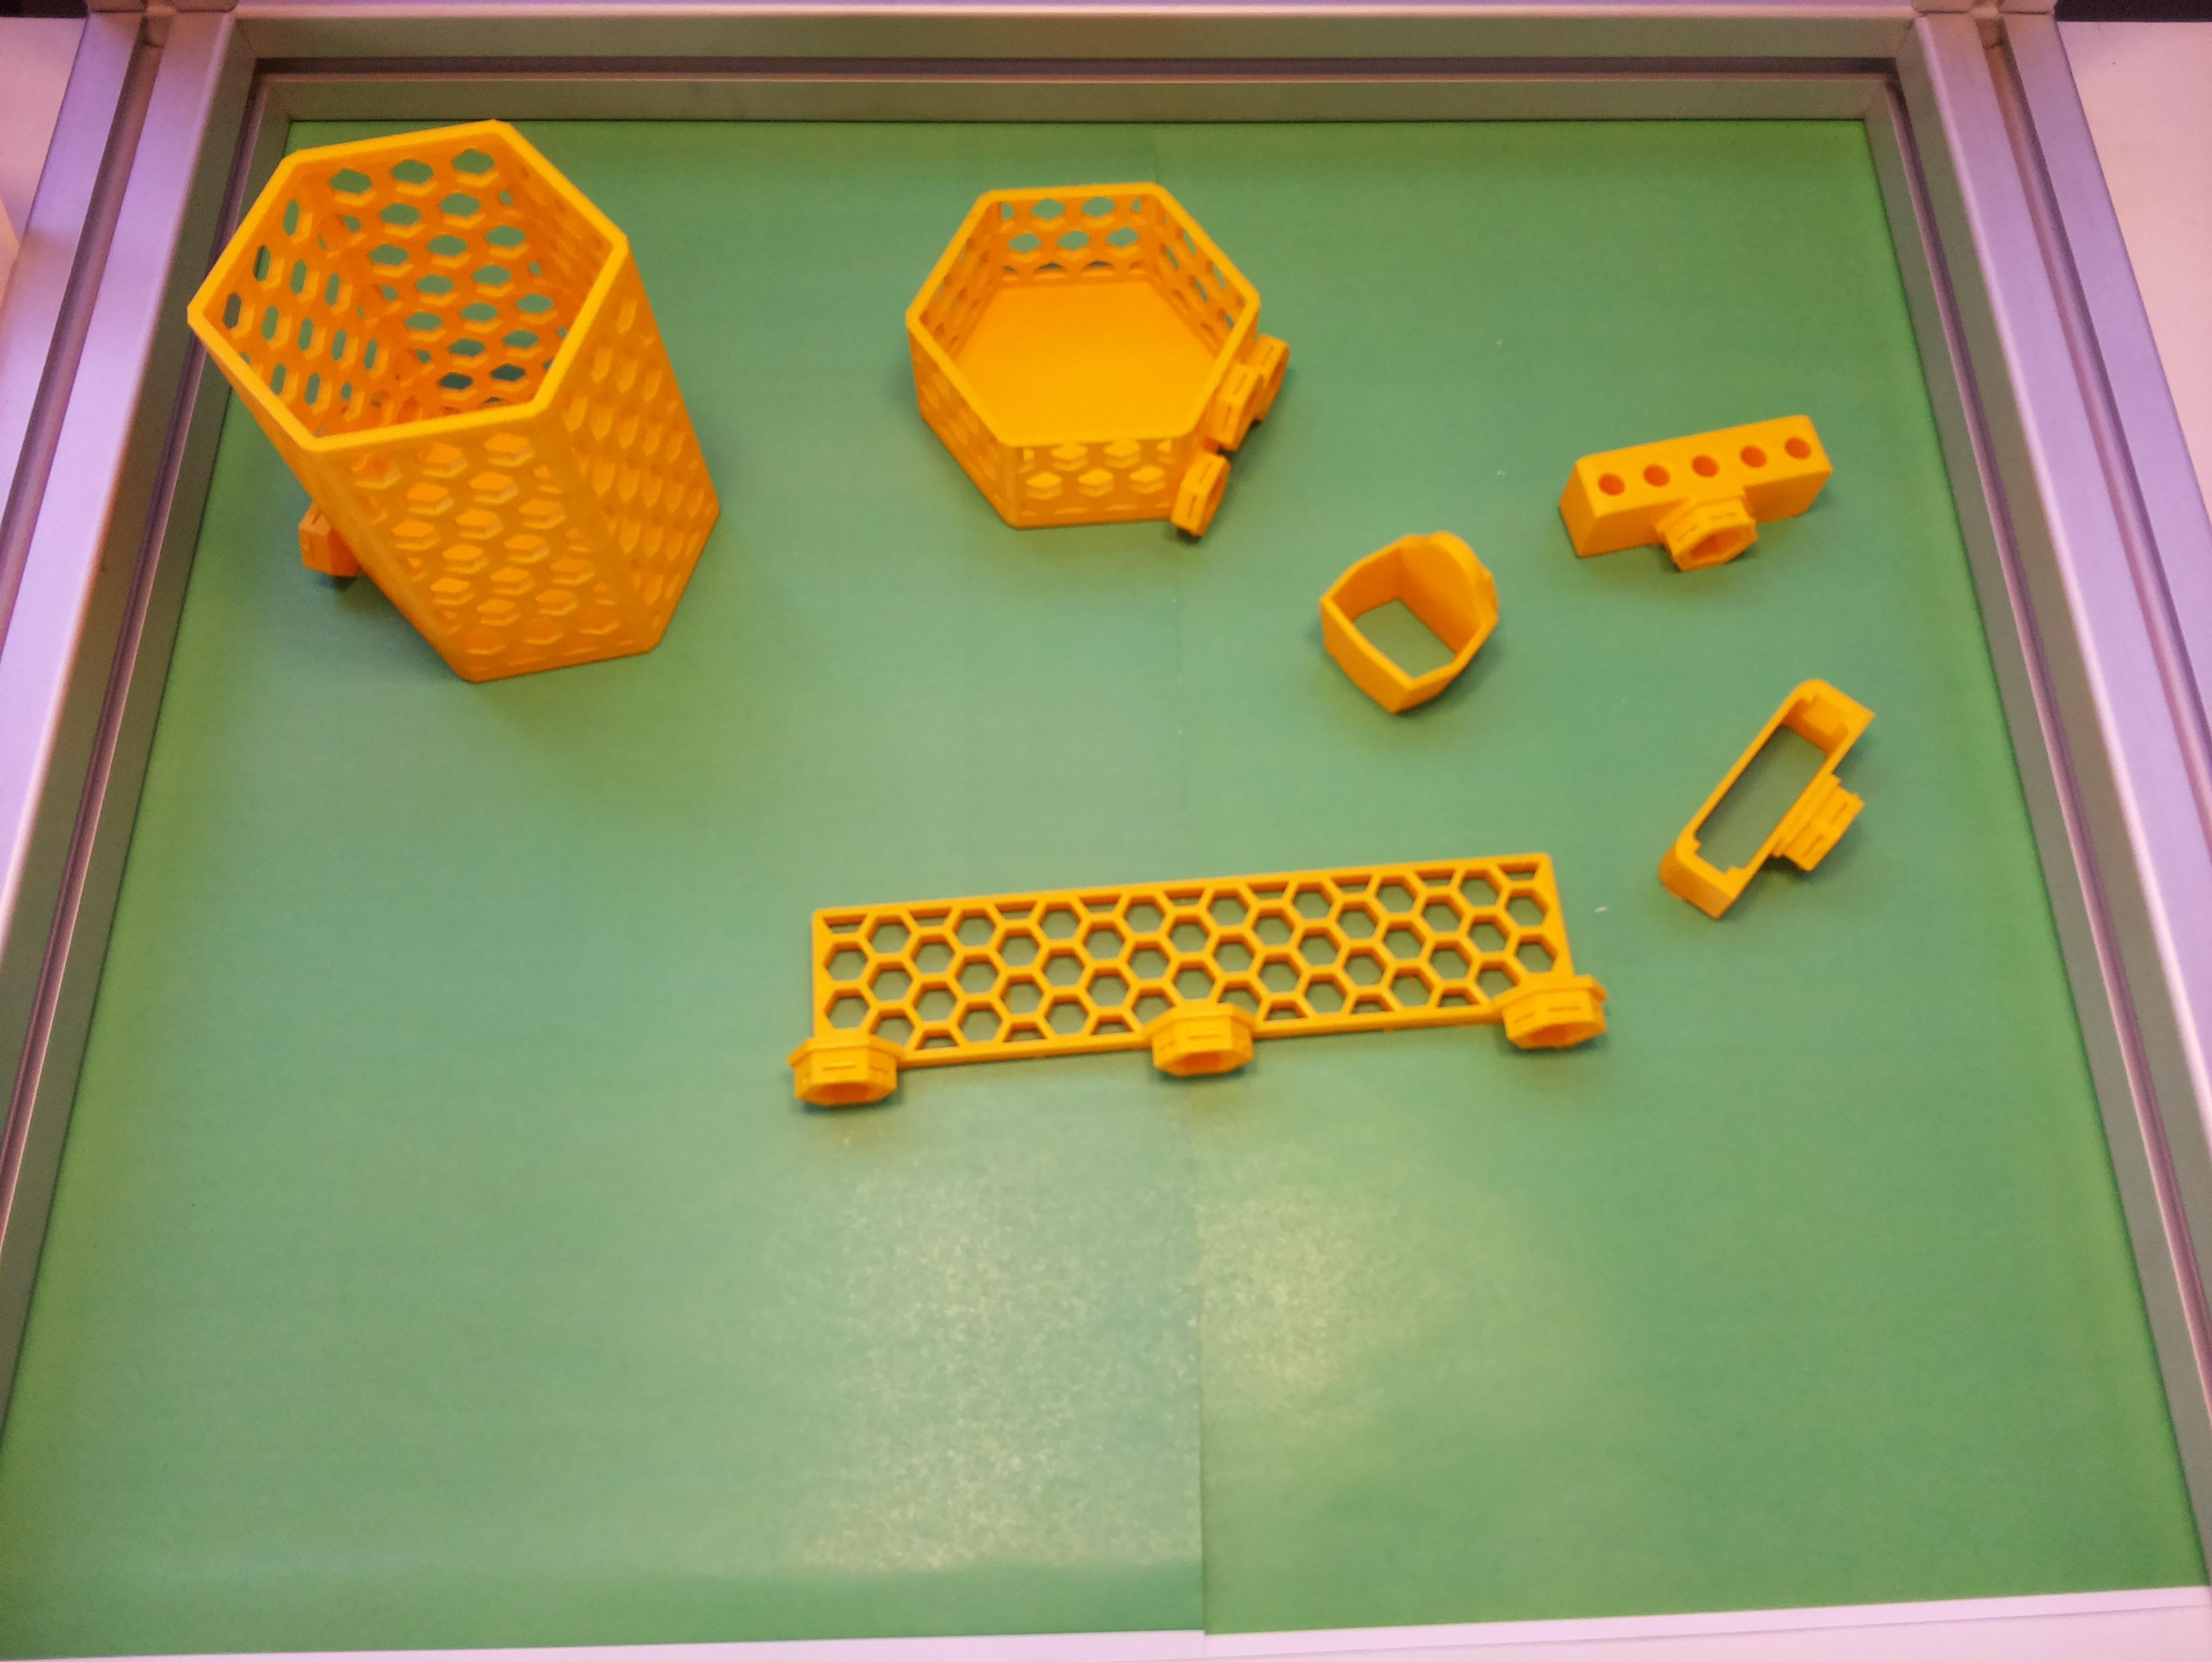bit_holder: (1550, 403, 1845, 597)
bottle_holder: (843, 110, 1337, 606)
cup_holder: (148, 59, 758, 758)
cutter_holder: (1646, 665, 1913, 953)
scissor_holder: (1295, 501, 1528, 731)
tool_holder: (777, 847, 1610, 1110)
